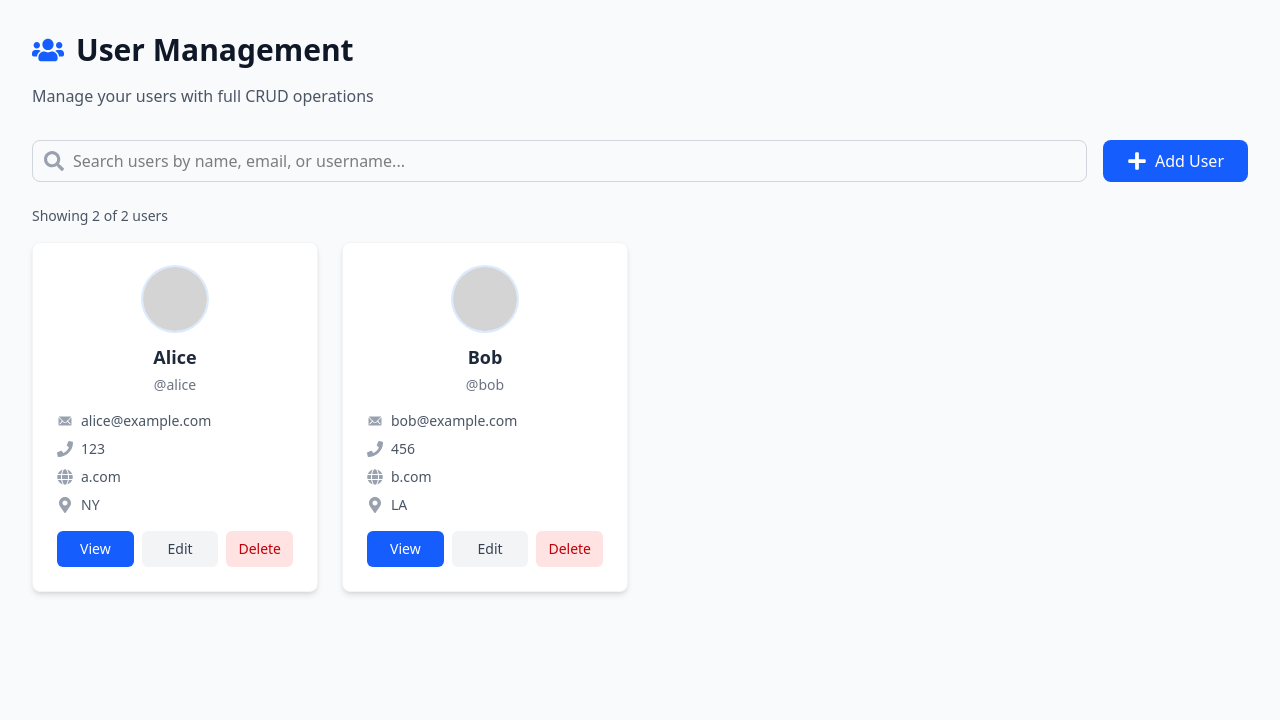
Scenario: UserList › opens edit user form when Edit button on card is clicked
This screenshot has width=1280, height=720.
Step 1. Click the button "Edit" below "NY" → {"x": 180, "y": 549}, box [142,531,218,567]
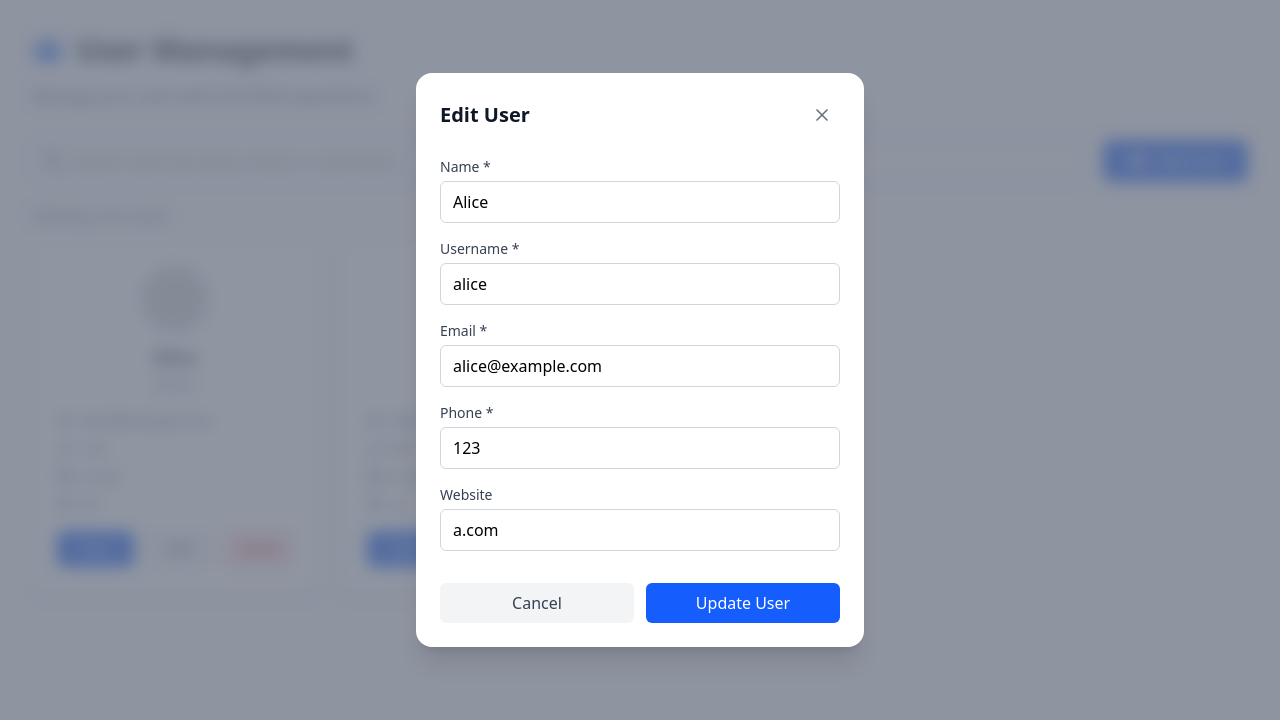
Expected: the heading "Edit User" is shown, [440,101,530,129]
